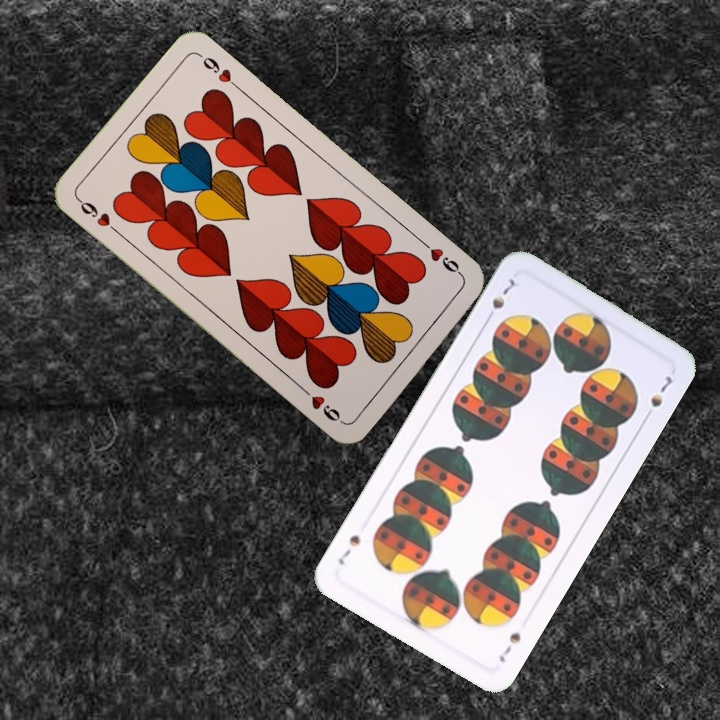H9: (74, 194, 123, 237), (417, 237, 466, 280)
S7: (481, 271, 522, 325), (495, 628, 524, 665)
